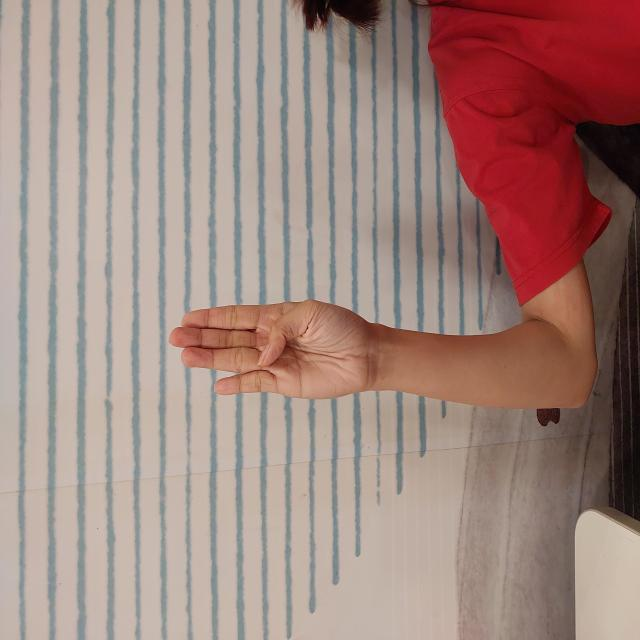B: (239, 167, 341, 377)
